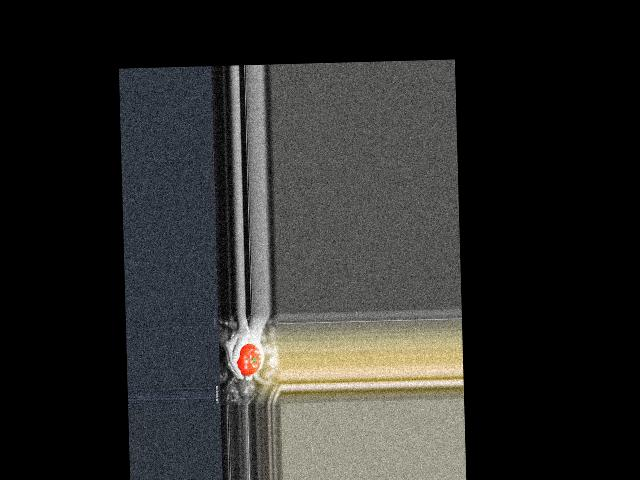tomato: (236, 343, 261, 375)
